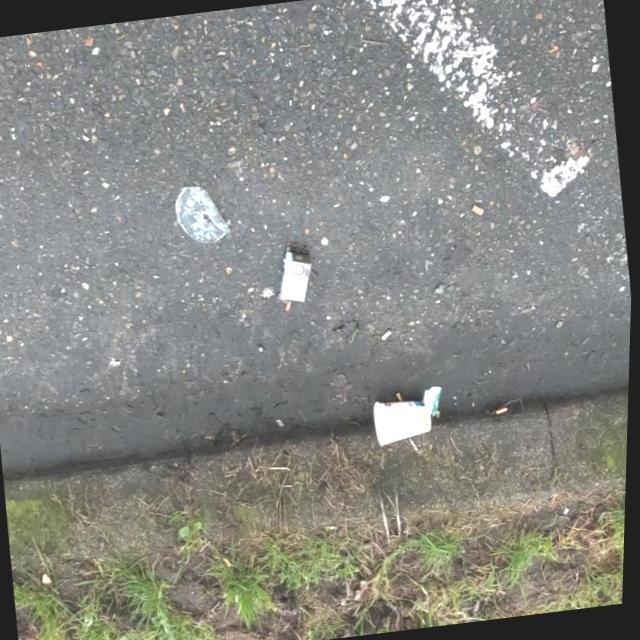Paper: (172, 179, 236, 250), (373, 393, 437, 447), (276, 246, 319, 306)
Plastic: (422, 382, 449, 420)
